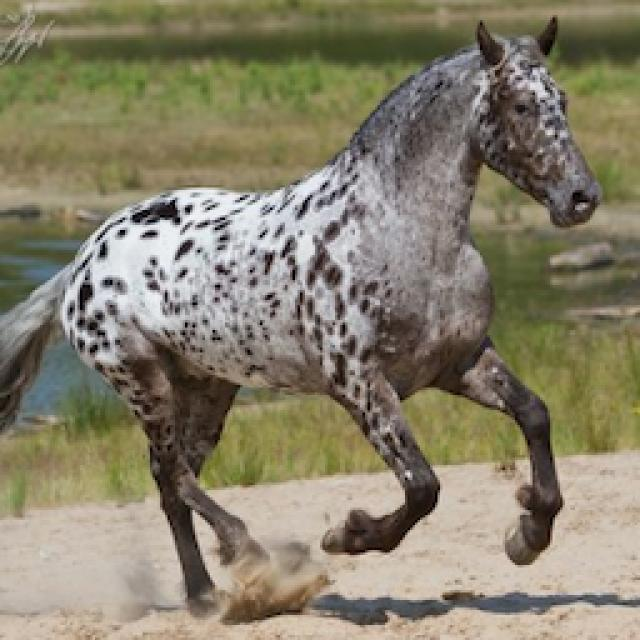Horse: (0, 10, 610, 625)
